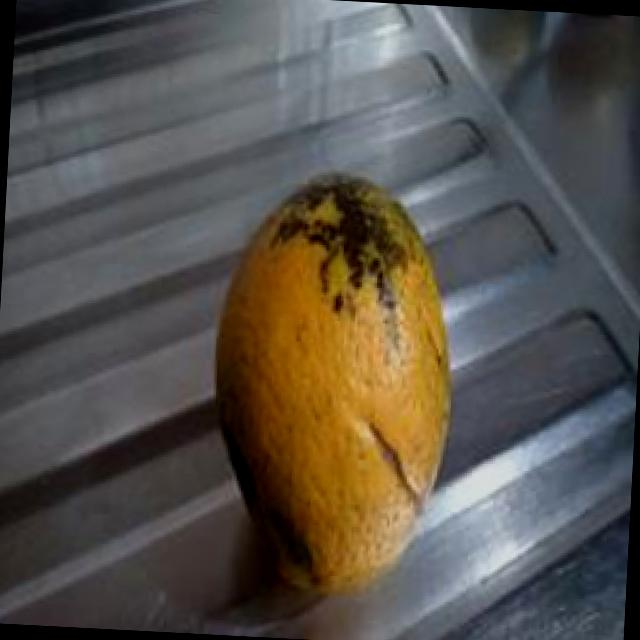Rotten_Orange: (190, 144, 479, 640)
